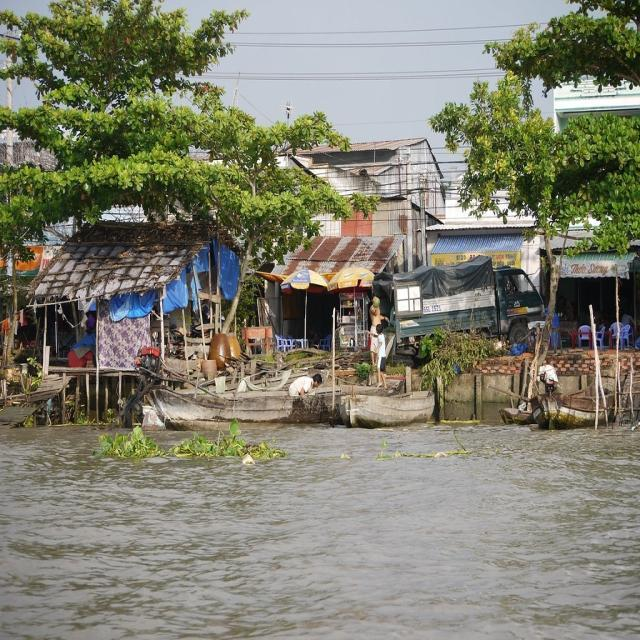Hyacinth: (180, 424, 280, 468), (95, 428, 168, 464), (383, 442, 474, 468)
boat: (136, 351, 322, 431), (341, 391, 438, 432), (530, 386, 604, 434)
